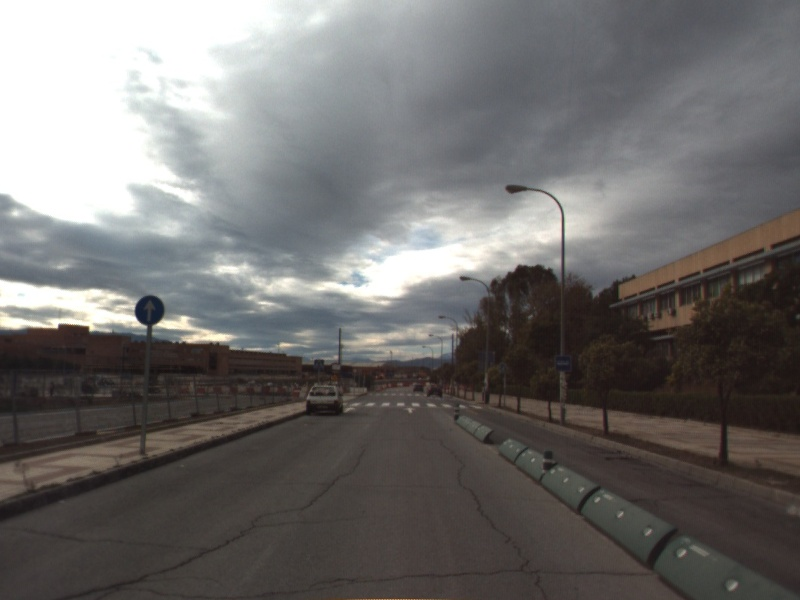STRAIGHT: (401, 405, 418, 415), (341, 405, 358, 415)
